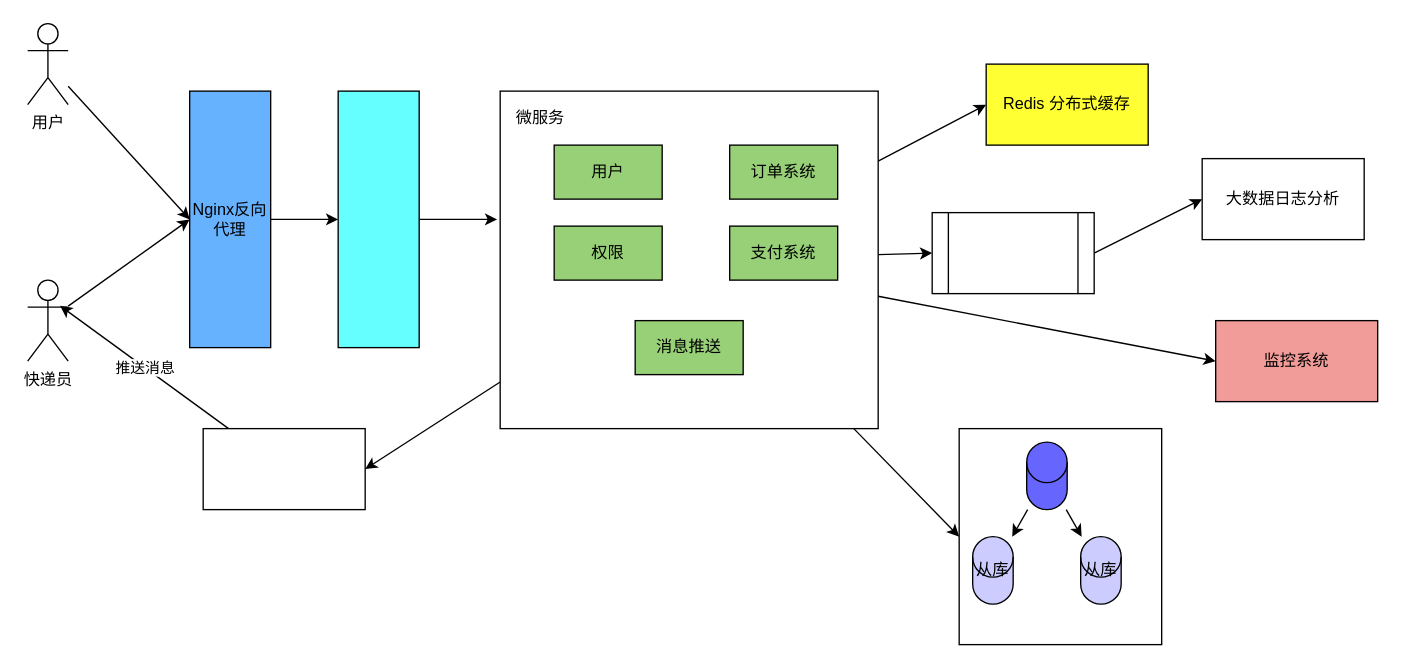
Some shapes in this 1401 by 668 pixel diagram are drawn without their labels. Here are the shapes that lost their labels. From the top down, the centre of each, then its label:
At point 378,219: "微服务网关及负载均衡".
At point 1012,252: "消息队列Kafka".
At point 283,468: "消息推送服务".
At point 1046,475: "主库".
